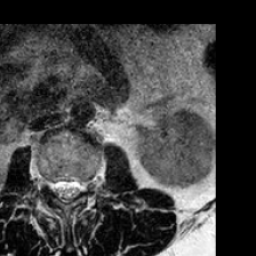CCS_normal: (62, 168, 71, 213)
LFS_normal: (81, 165, 92, 203)
LLS_normal: (71, 168, 81, 207)
RFS_normal: (43, 165, 52, 199)
RLS_normal: (52, 169, 62, 208)
